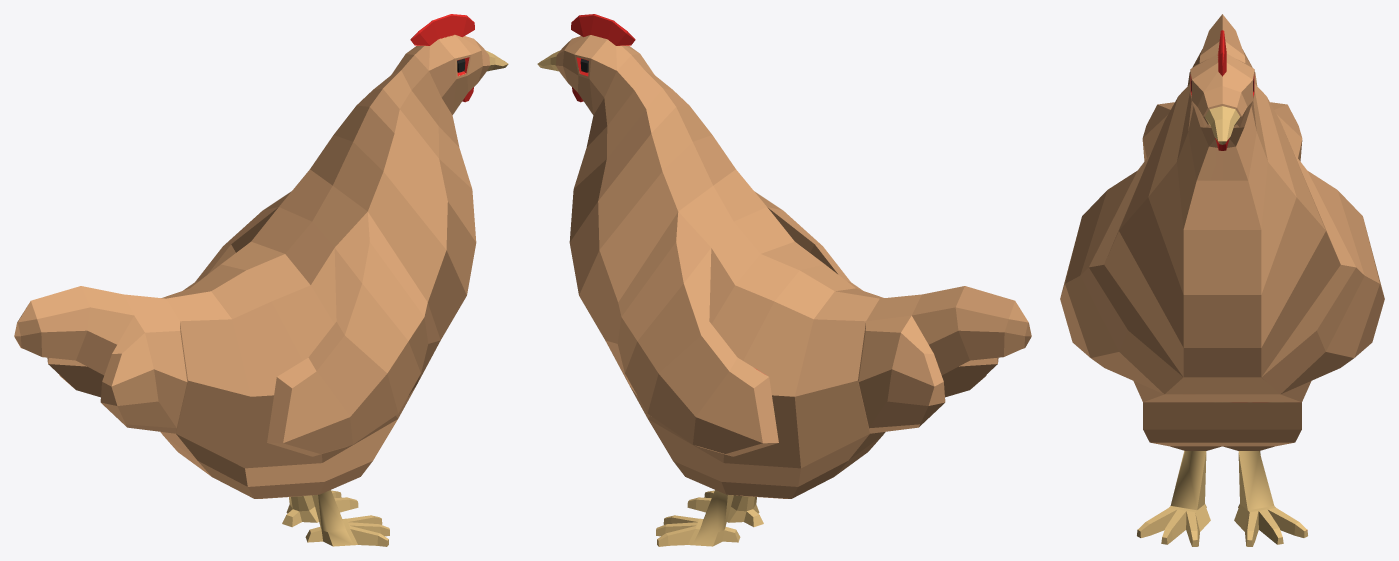
File: Model_Chicken.fbx
The picture shows the model from 3 angles, left to right: view 1: azimuth 30°, elevation 25°; view 2: azimuth 150°, elevation 25°; view 3: azimuth 270°, elevation 25°; orthographic projection. The views are drawn at different scales.
Visible parts, largest first — view 1: Chicken; view 2: Chicken; view 3: Chicken.
Part boxes in pixels (box(x1,y1,x2,y2)): Chicken: box(14, 14, 508, 546); Chicken: box(537, 14, 1031, 546); Chicken: box(1060, 14, 1384, 546).
Size of the model in its own units: 717 by 669 by 355.
